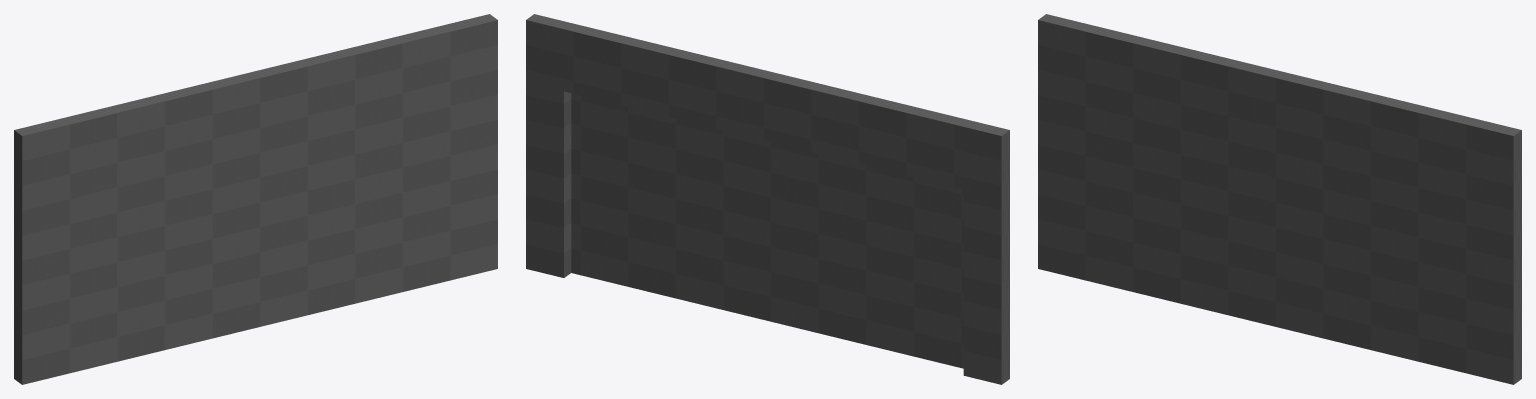
File: SM_Garage_01.fbx
The picture shows the model from 3 angles, left to right: view 1: azimuth 30°, elevation 25°; view 2: azimuth 150°, elevation 25°; view 3: azimuth 330°, elevation 25°; orthographic projection.
Visible parts, largest first — view 1: SM_Garage_01; view 2: SM_Garage_01; view 3: SM_Garage_01.
Part boxes in pixels (box(x1,y1,x2,y2)): SM_Garage_01: box(14, 14, 497, 384); SM_Garage_01: box(526, 14, 1009, 384); SM_Garage_01: box(1038, 14, 1521, 384).
Bounding box in the file's own units: 1000 × 30 × 500.
1 material, 1 textured.
